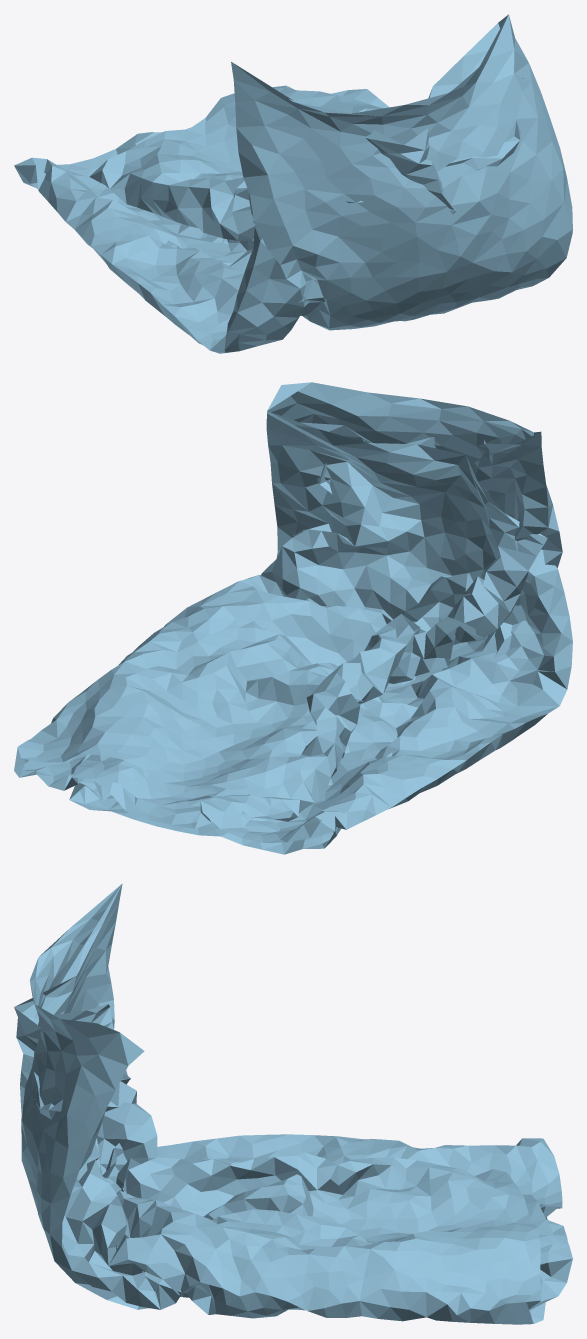
File: frame_09.glb
3 renders of one model, top to bottom at view 1: azimuth 30°, elevation 25°; view 2: azimuth 150°, elevation 25°; view 3: azimuth 270°, elevation 25°, orthographic. The views are drawn at different scales.
Parts seen in each view (by area): view 1: frame_09.obj; view 2: frame_09.obj; view 3: frame_09.obj.
Boxes of the visible parts, x1,y1,x2,y2 form: frame_09.obj: (14, 14, 572, 353); frame_09.obj: (14, 382, 572, 854); frame_09.obj: (14, 883, 572, 1324).
Bounding box in the file's own units: 0.9694 × 0.7523 × 1.3.
